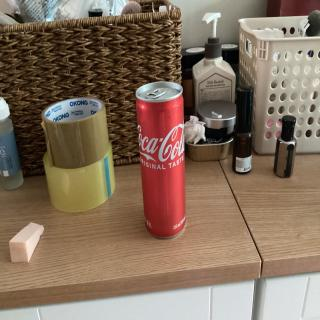cocacola: (135, 80, 189, 242)
